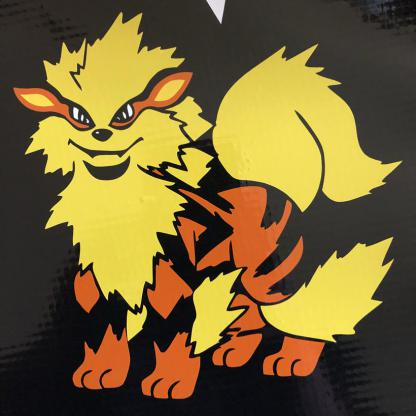Arcanine: (6, 26, 405, 401)
